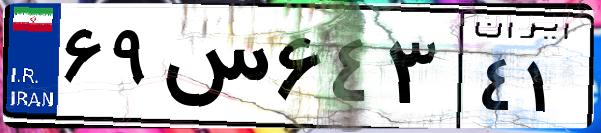1: (525, 38, 570, 115)
3: (385, 28, 445, 110)
4: (330, 28, 385, 110), (475, 38, 525, 113)
6: (270, 28, 330, 110), (57, 26, 110, 100)
9: (110, 28, 158, 98)
س: (158, 20, 270, 120)
